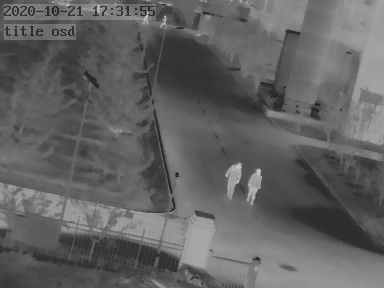person: (225, 162, 243, 200), (245, 167, 261, 204), (160, 13, 168, 29), (142, 11, 150, 25)
